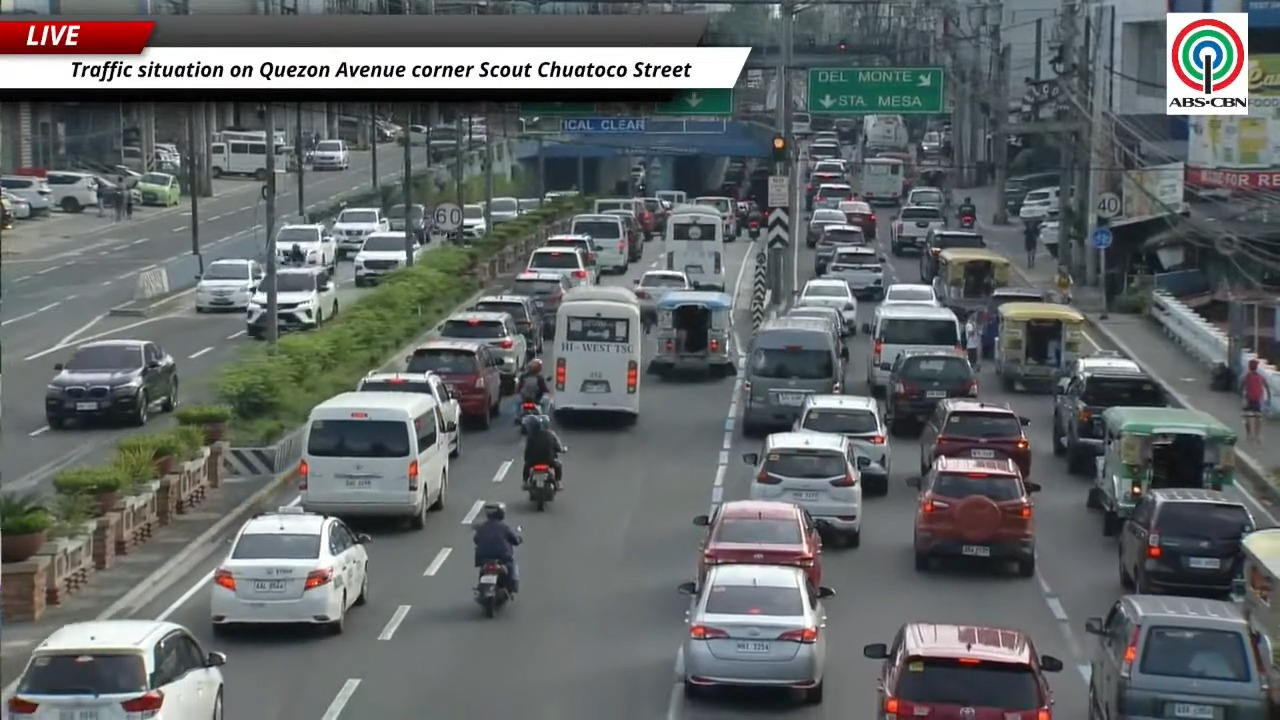bus: (552, 286, 643, 424), (663, 205, 726, 291), (209, 140, 266, 179), (211, 129, 266, 142)
car: (1085, 594, 1273, 719), (5, 619, 226, 719), (679, 565, 834, 703), (210, 505, 370, 633), (864, 623, 1063, 719), (907, 457, 1039, 576), (1118, 488, 1255, 598), (1052, 352, 1168, 474), (743, 431, 862, 546), (45, 339, 178, 429), (694, 500, 821, 586), (793, 394, 891, 495), (356, 372, 461, 457), (404, 339, 501, 428), (921, 398, 1031, 476), (884, 349, 977, 435), (437, 311, 528, 391), (981, 287, 1051, 359), (468, 294, 544, 356), (504, 272, 573, 337), (353, 230, 426, 286), (276, 267, 339, 331), (194, 258, 264, 311), (919, 228, 984, 282), (822, 245, 886, 299), (796, 278, 857, 334), (275, 223, 337, 277), (633, 270, 693, 321), (329, 208, 389, 258), (526, 247, 598, 286), (813, 224, 868, 275), (890, 205, 945, 255), (542, 234, 599, 276), (602, 209, 646, 261), (45, 171, 98, 212), (0, 175, 52, 216), (692, 196, 738, 241), (785, 306, 851, 337), (386, 203, 429, 244), (805, 171, 847, 209), (135, 172, 181, 206), (837, 199, 876, 238), (806, 208, 846, 246), (98, 175, 141, 209), (1018, 186, 1059, 221), (642, 197, 672, 239), (310, 139, 349, 170), (882, 284, 939, 305), (813, 182, 854, 208), (461, 203, 488, 239), (905, 186, 946, 209), (0, 191, 32, 219), (489, 197, 518, 226), (806, 141, 842, 162), (809, 159, 847, 175), (920, 131, 942, 156), (792, 112, 812, 137), (811, 130, 839, 145), (518, 198, 542, 214)
motorcycle: (475, 561, 510, 617), (527, 464, 557, 511), (516, 400, 542, 435), (748, 219, 760, 240), (959, 215, 975, 229)
